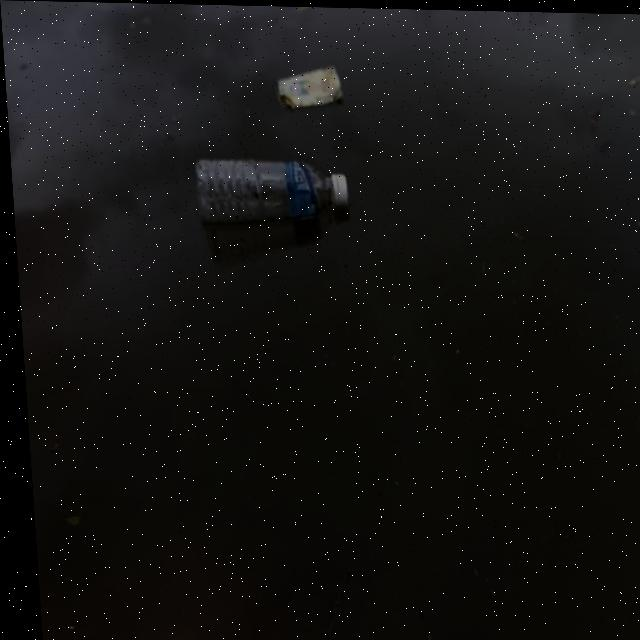paper: (255, 35, 371, 110)
waterbottle: (164, 146, 367, 247)
